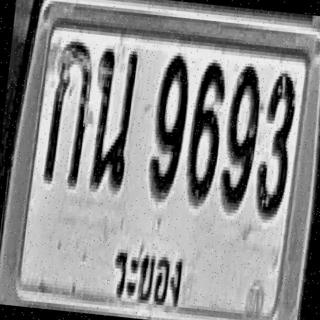A01: (36, 27, 100, 205)
A25: (82, 42, 144, 214)
N03: (245, 61, 305, 227)
N06: (178, 52, 234, 229)
N09: (139, 43, 196, 225), (213, 59, 267, 232)
P53: (95, 218, 195, 320)
